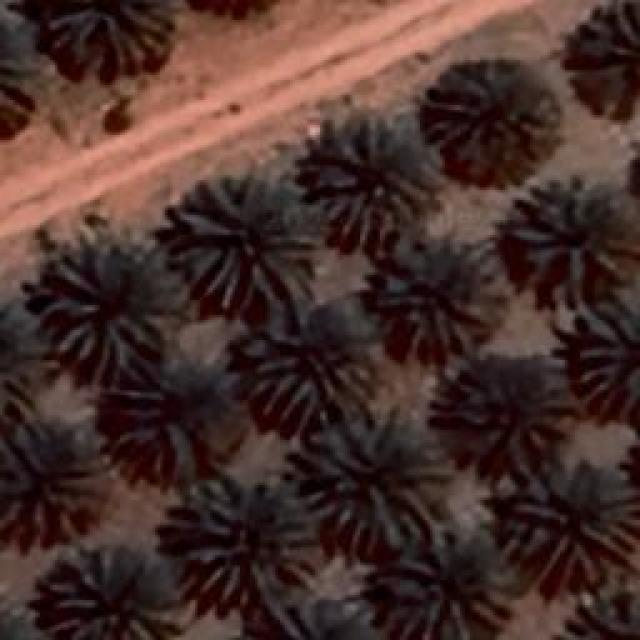PalmTree: (70, 104, 511, 409), (294, 408, 448, 550), (168, 172, 320, 312), (120, 62, 605, 104), (42, 242, 180, 380), (378, 222, 508, 360), (248, 295, 382, 423), (422, 49, 560, 172), (310, 115, 432, 243), (380, 530, 520, 635), (504, 457, 638, 565), (507, 175, 635, 285), (185, 488, 308, 600), (111, 365, 236, 473), (40, 547, 190, 635), (0, 428, 95, 538), (570, 290, 635, 420), (42, 0, 169, 62), (0, 298, 47, 421), (251, 604, 381, 640), (560, 583, 640, 640), (0, 6, 31, 135), (176, 0, 286, 23)
